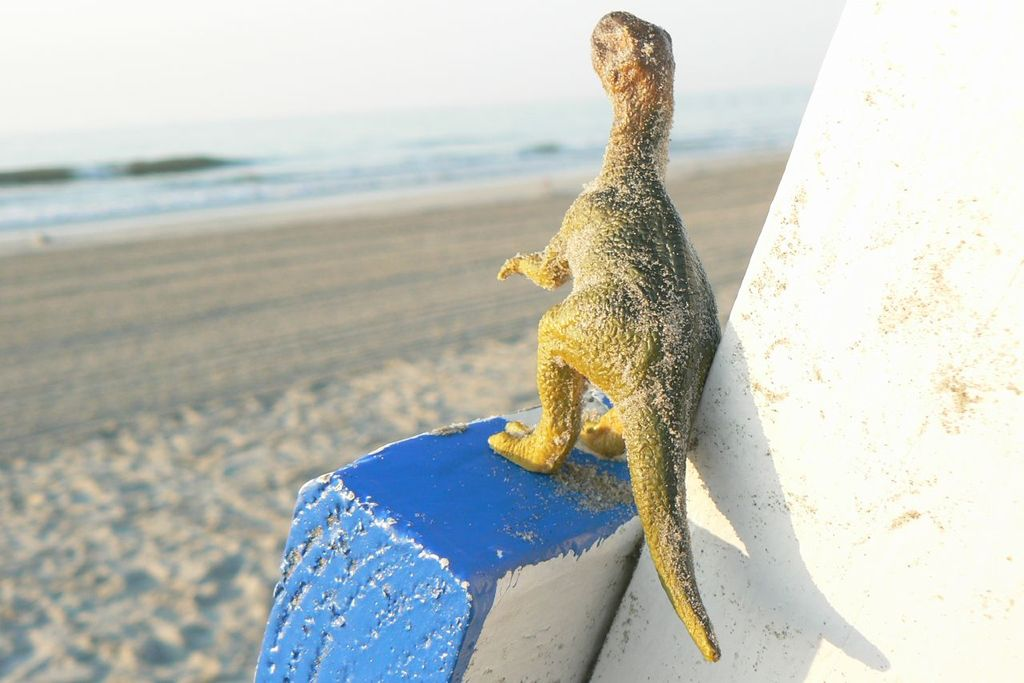Animal: (489, 12, 724, 657)
